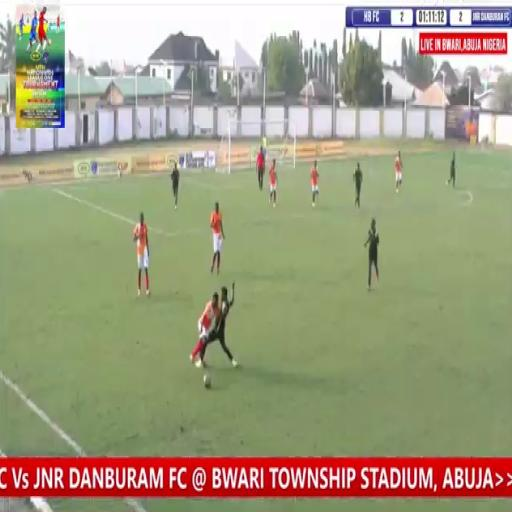ball: (196, 366, 214, 400)
keeper1: (255, 142, 268, 192)
team1: (192, 288, 218, 366), (131, 208, 153, 296), (208, 194, 228, 284), (392, 143, 404, 196), (268, 156, 278, 212), (310, 155, 320, 209)
team2: (216, 287, 238, 365), (362, 221, 382, 291), (352, 154, 365, 214), (170, 156, 182, 214), (448, 150, 458, 192)
